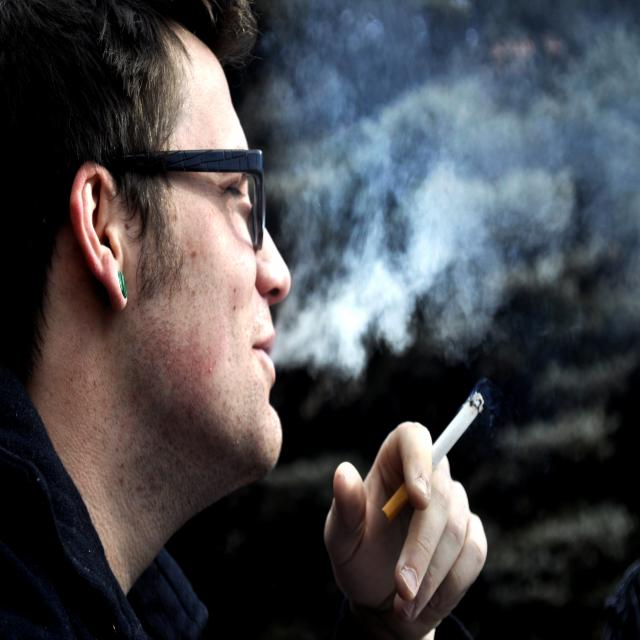cigarette: (378, 382, 488, 521)
